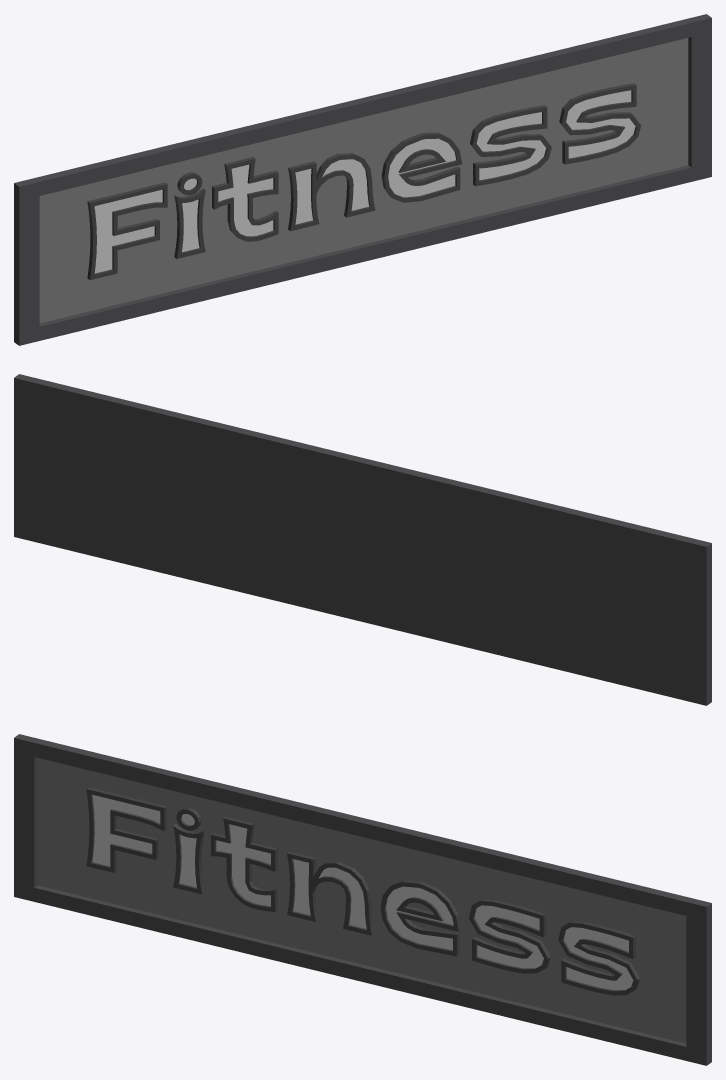
File: SM_BuildingsDecor_54.fbx
3 renders of one model, top to bottom at view 1: azimuth 30°, elevation 25°; view 2: azimuth 150°, elevation 25°; view 3: azimuth 330°, elevation 25°, orthographic.
Visible parts, largest first — view 1: SM_BuildingsDecor_54; view 2: SM_BuildingsDecor_54; view 3: SM_BuildingsDecor_54.
Part boxes in pixels (x1,y1,x2,y2): SM_BuildingsDecor_54: [14, 14, 711, 345]; SM_BuildingsDecor_54: [14, 374, 711, 705]; SM_BuildingsDecor_54: [14, 734, 711, 1065].
Size of the model in its own units: 1.75 by 0.3838 by 0.0231.
